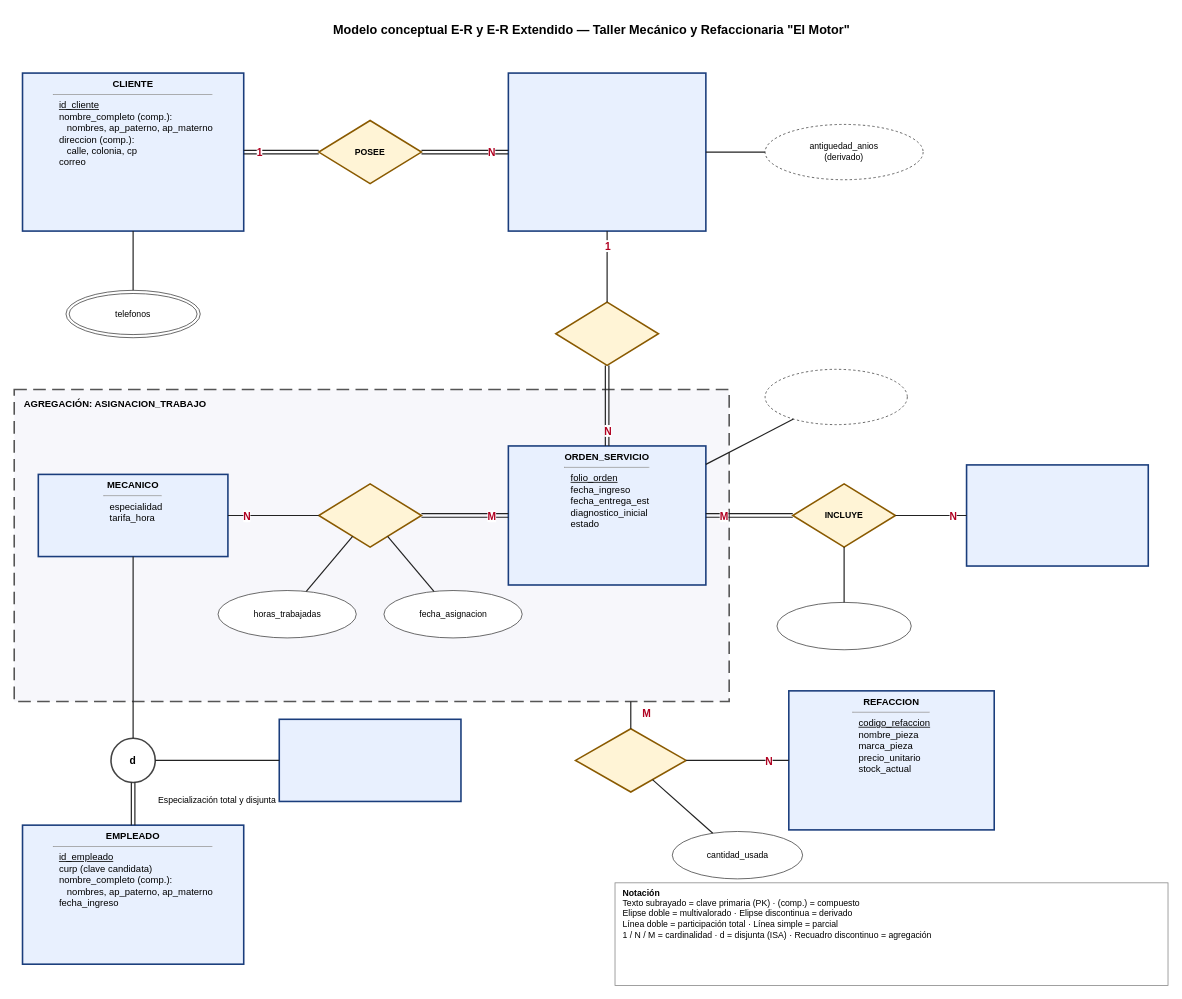
This 1182x999 diagram has some shape labels left out. Each missing label, with the centre of its shape:
"ASIGNA" belongs at [370,515].
"costo_aplicado" belongs at [843,626].
"GENERA" belongs at [607,333].
"monto_total (derivado)" belongs at [835,397].
"RECEPCIONISTA turno modulo_atencion" belongs at [369,760].
"SERVICIO id_servicio nombre_servicio precio_base" belongs at [1057,515].
"UTILIZA" belongs at [630,760].
"VEHICULO vin placa (clave candidata) marca modelo_anio color kilometraje" belongs at [606,151].
